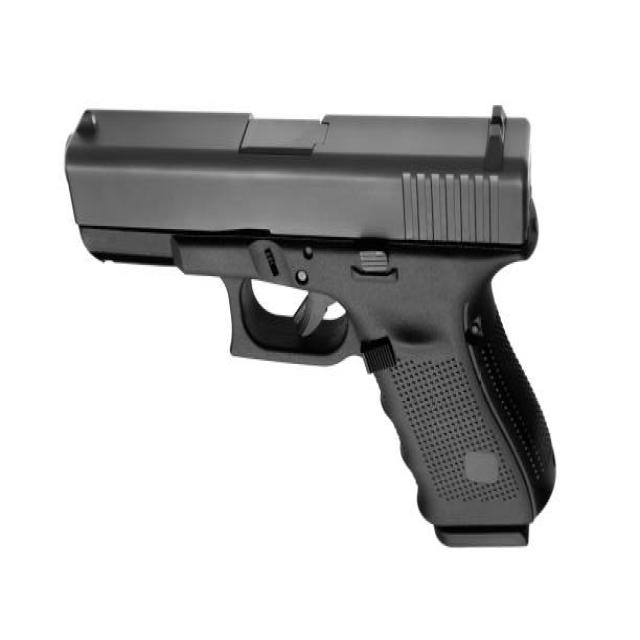pistol: (57, 88, 564, 563)
